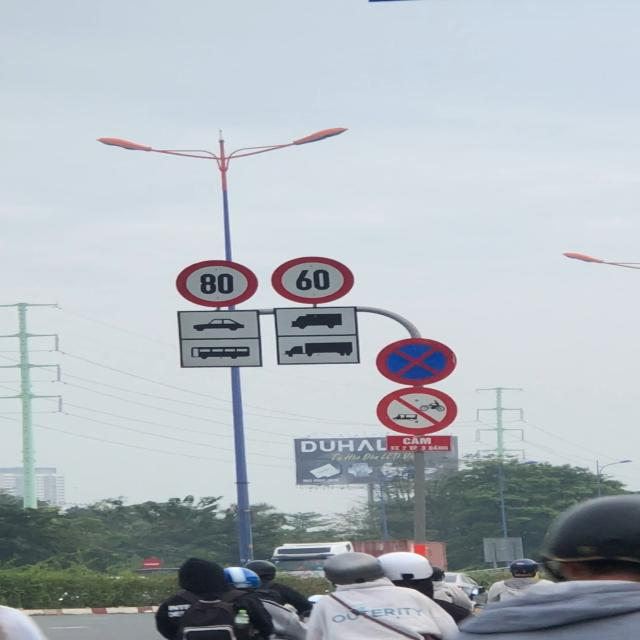Bien bao cam dung xe va do xe: (374, 338, 460, 385)
Bien bao toc do toi da cho phep: (269, 255, 355, 305), (175, 258, 258, 308)
